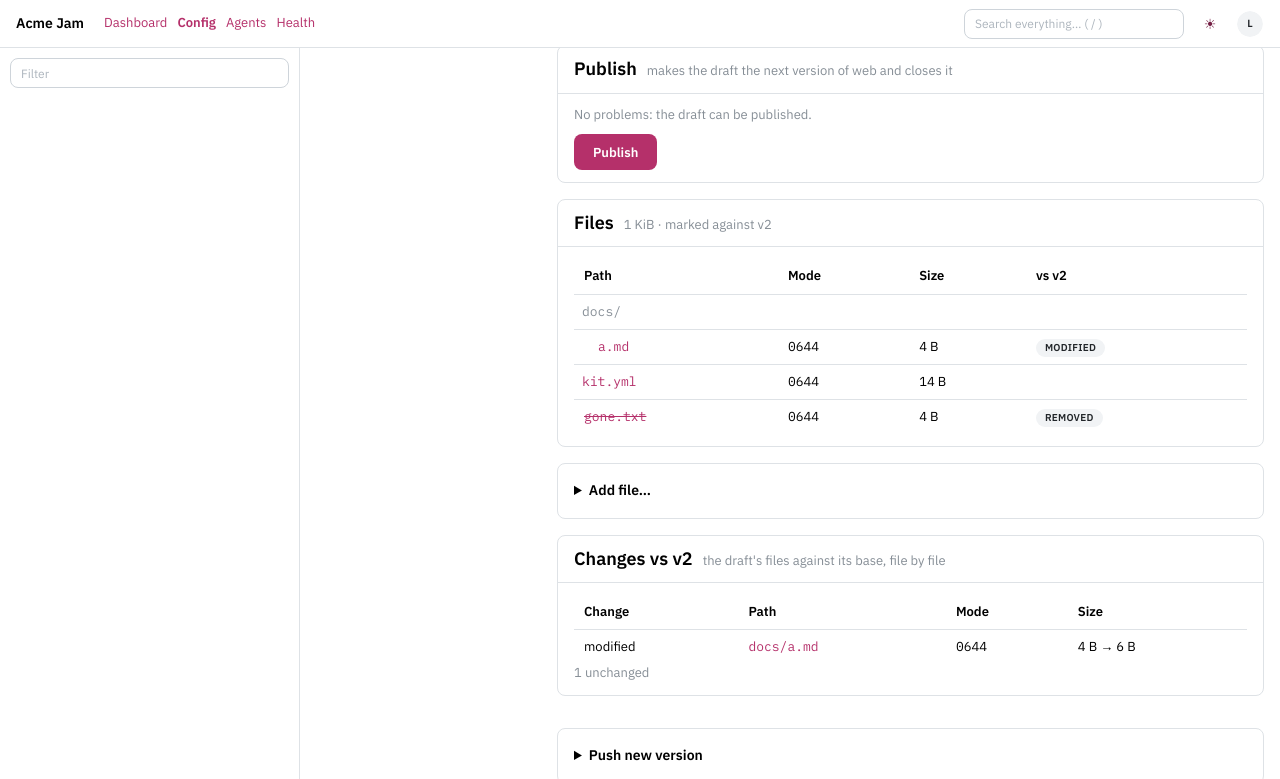
Test case: a kit's Draft › adds a file as an upload form
The image size is (1280, 779).
(page scrolled)
Click the heading "Add file…".
click(620, 490)  # box [589,481,651,499]
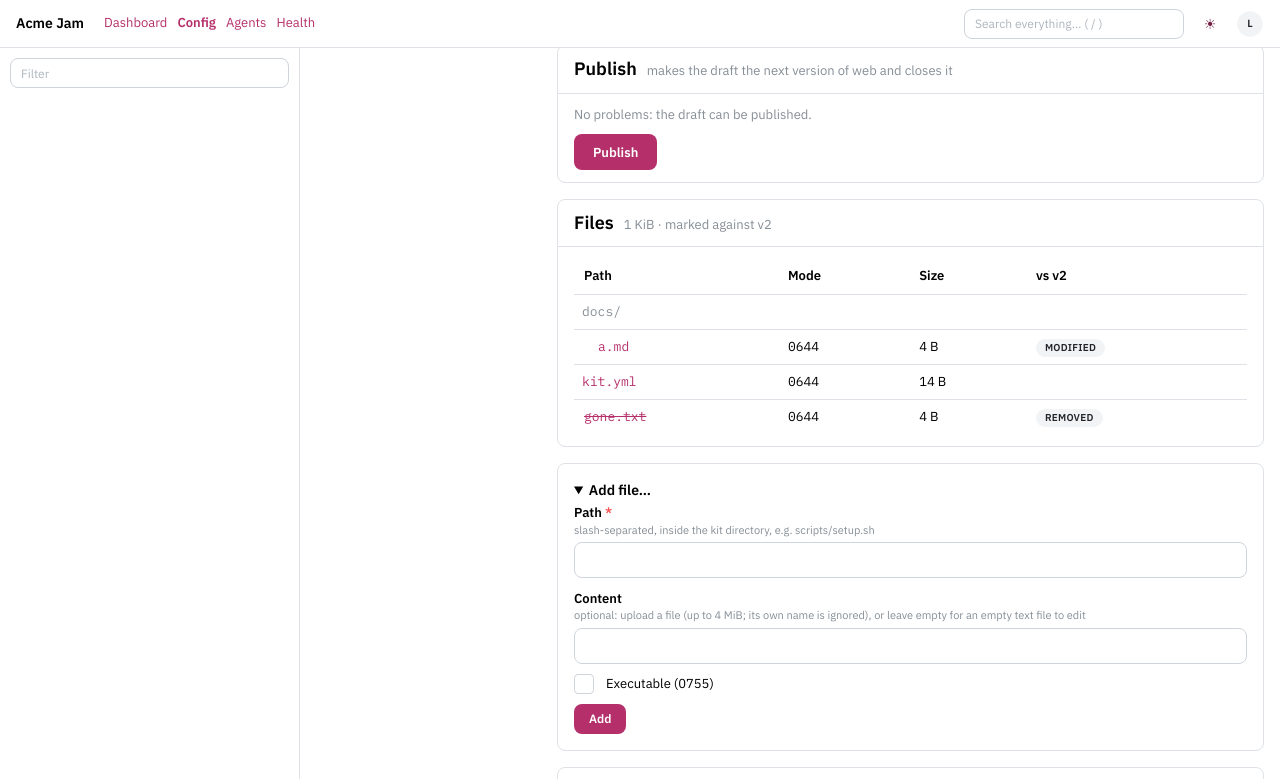
Type "notes/n.md" into the field labelled "Path *".
click(910, 560); type("notes/n.md")  # box [574,542,1247,578]
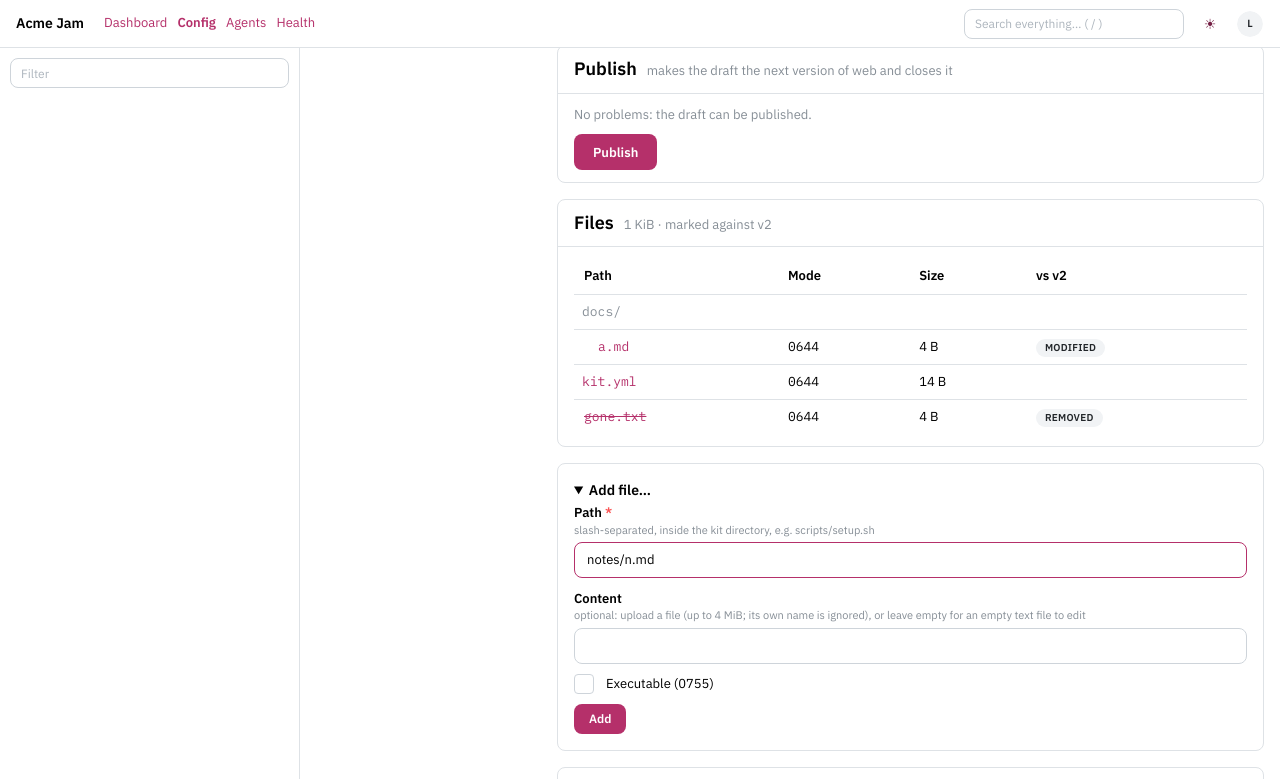
Click the checkbox labelled "Executable (0755)".
click(584, 684)  # box [574,674,594,694]
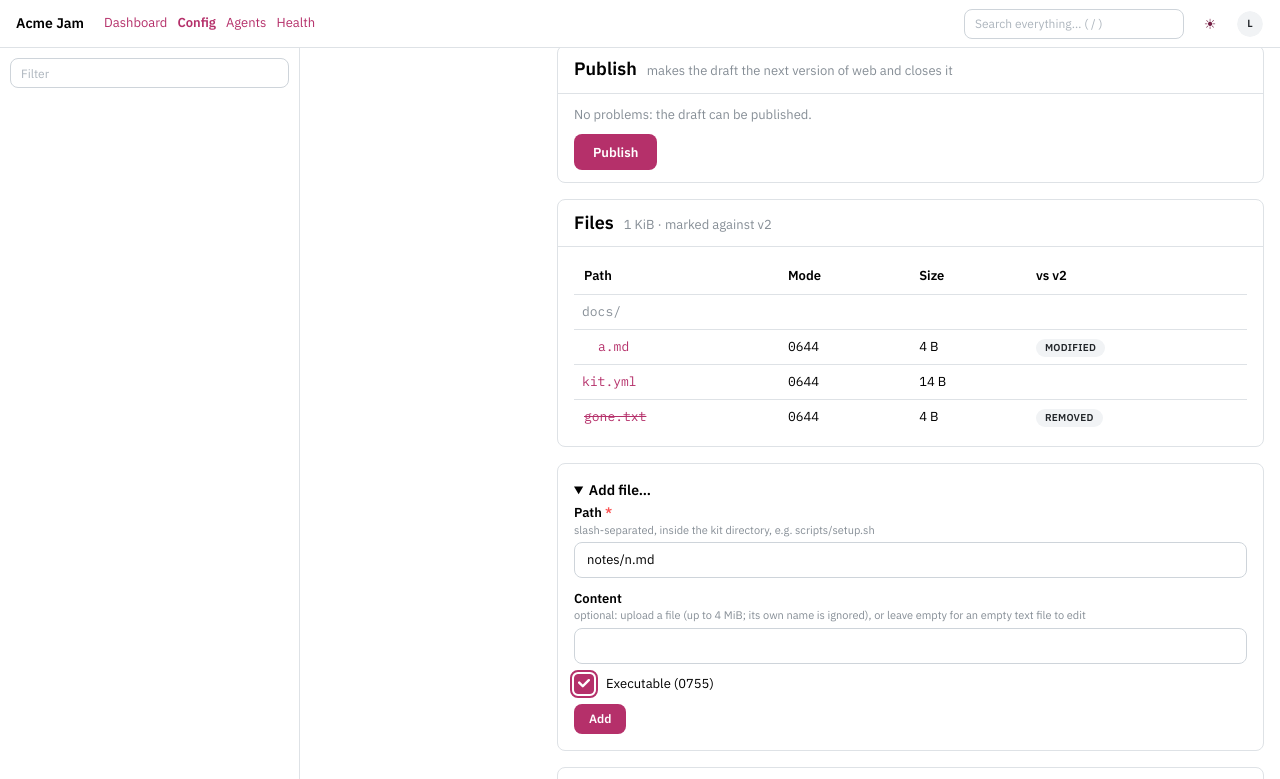
Click the button "Add".
click(600, 719)  # box [574,704,626,734]
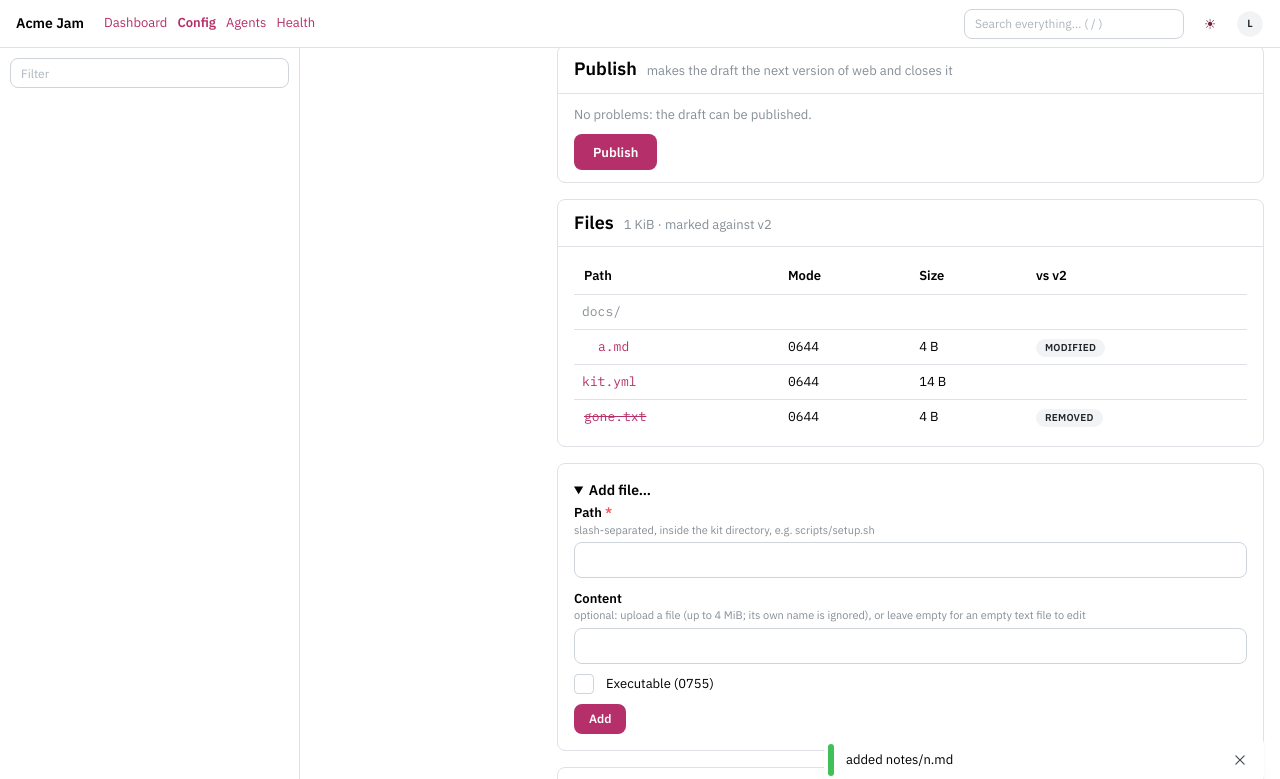
expect the text "added notes/n.md" is shown: met, box [846,751,953,768]
